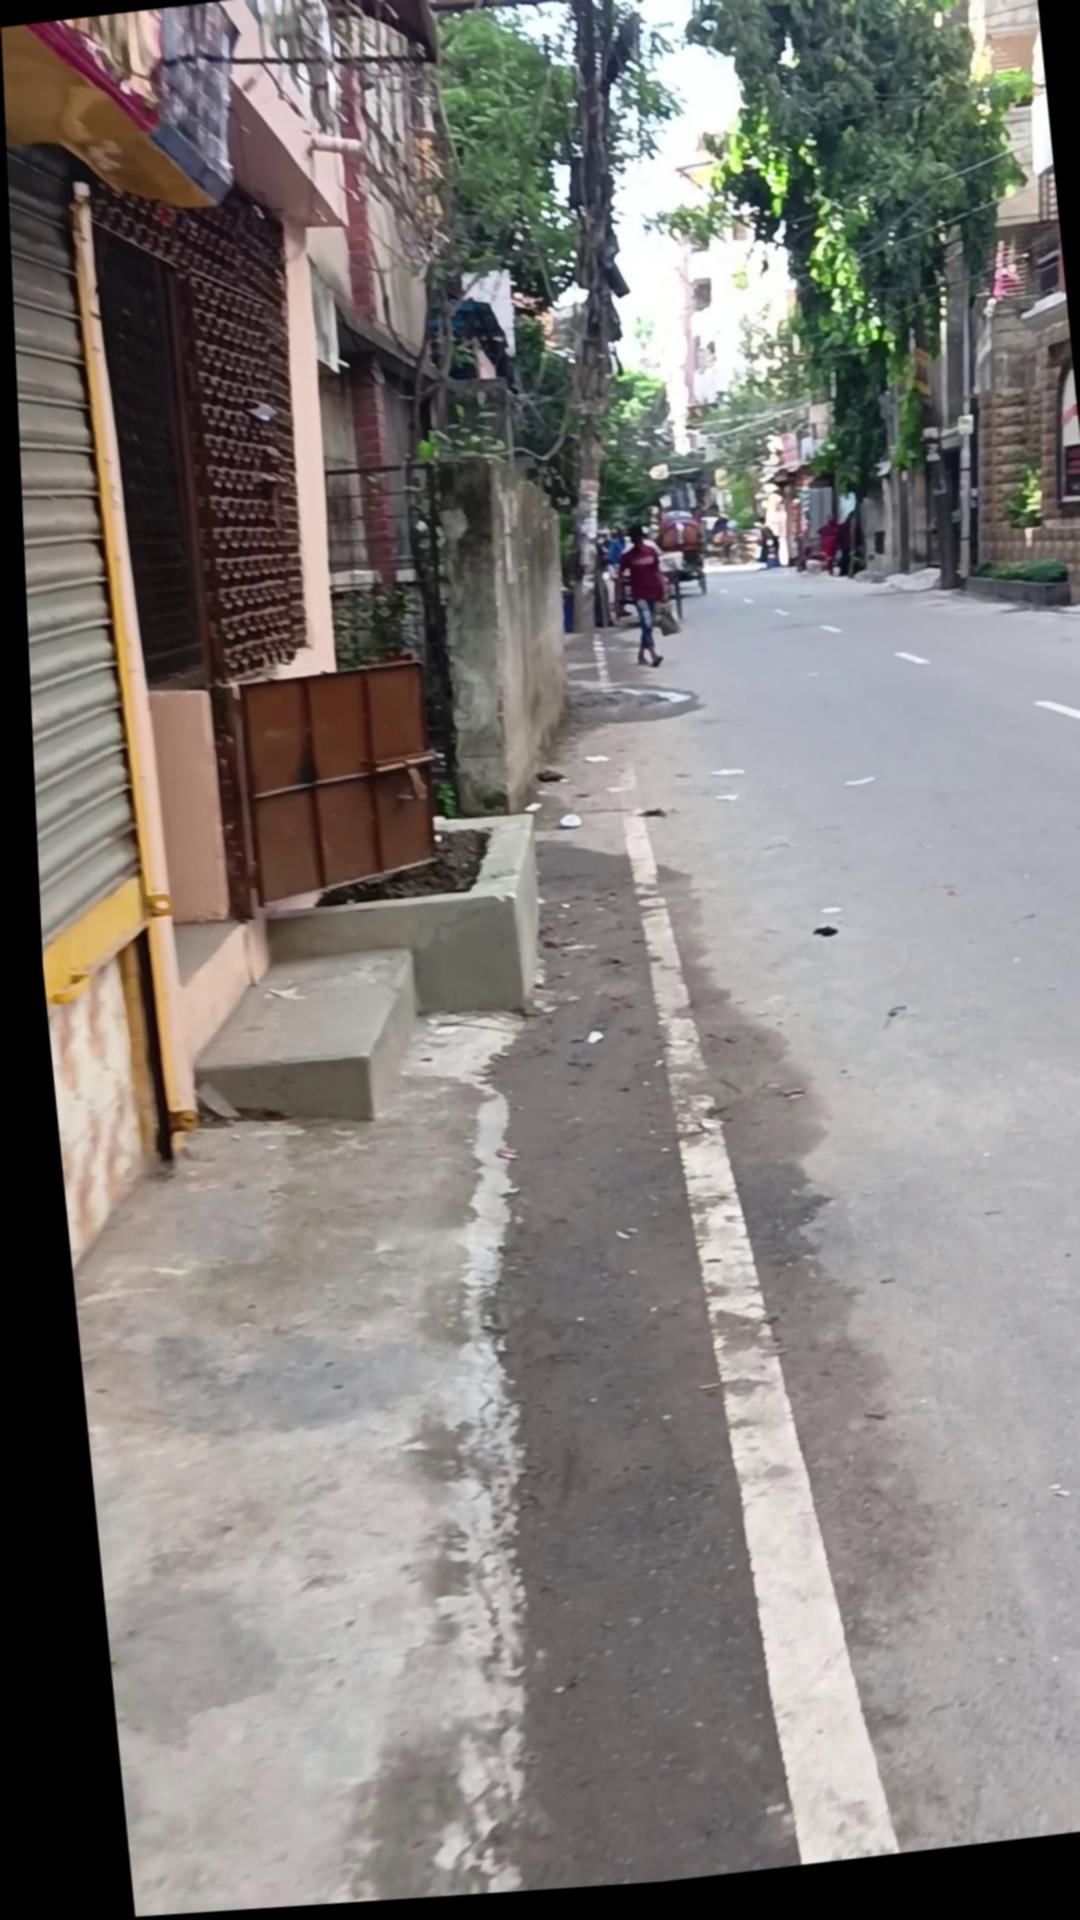Broken-road: (158, 782, 556, 1166)
Cat: (553, 591, 568, 640)
Dog: (501, 0, 671, 644)
Fallen-tree: (959, 563, 1065, 630), (992, 476, 1040, 547)
Garbage: (26, 700, 760, 1920)
Light-pole: (636, 0, 1069, 592)
Obstacle: (0, 0, 608, 1269), (407, 447, 578, 828)
